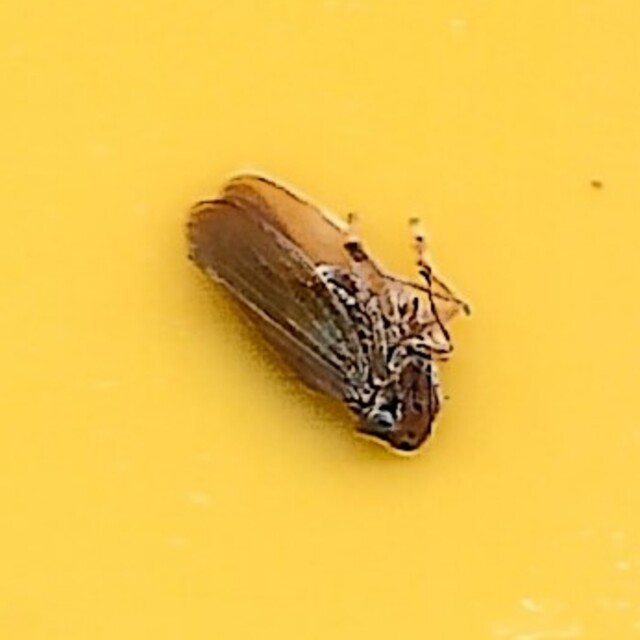Hemiptera: (185, 178, 455, 462)
